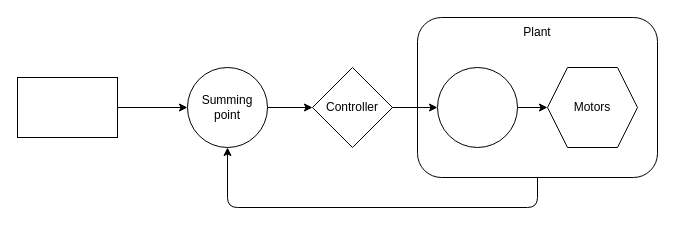
Image size: 675x233. Some labels were removed from this diagram. Each missing label, with the centre of its shape:
IMU: point (477, 107)
Joystick (reference): point (67, 107)
